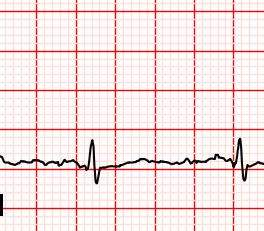Poor R Progression: (86, 136, 98, 172), (233, 136, 245, 170)
